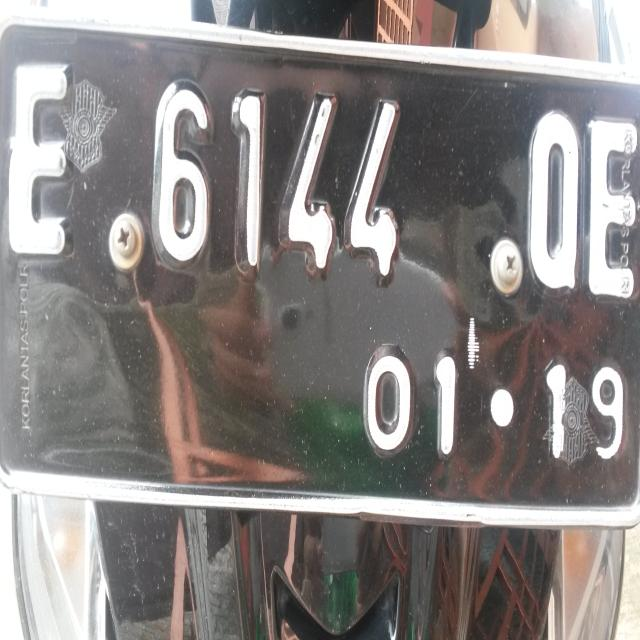plate: (0, 16, 640, 536)
